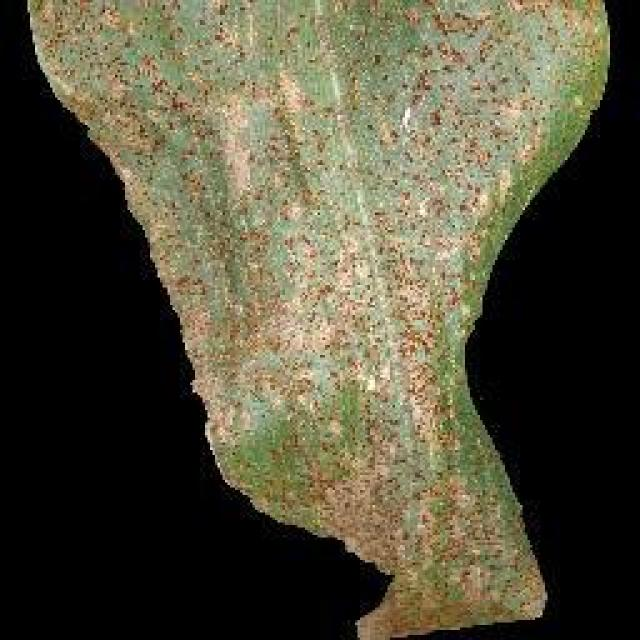Corn Common Rust: (147, 104, 508, 548)
